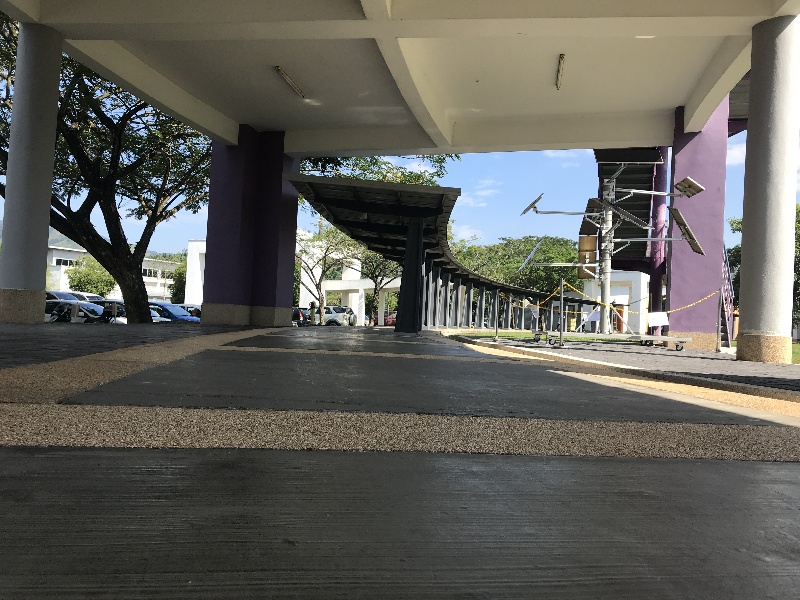Block D Pillar 5: (3, 6, 800, 558)
pillar: (199, 117, 306, 326), (659, 95, 730, 360), (741, 14, 792, 373), (9, 9, 58, 332), (390, 215, 432, 336)
